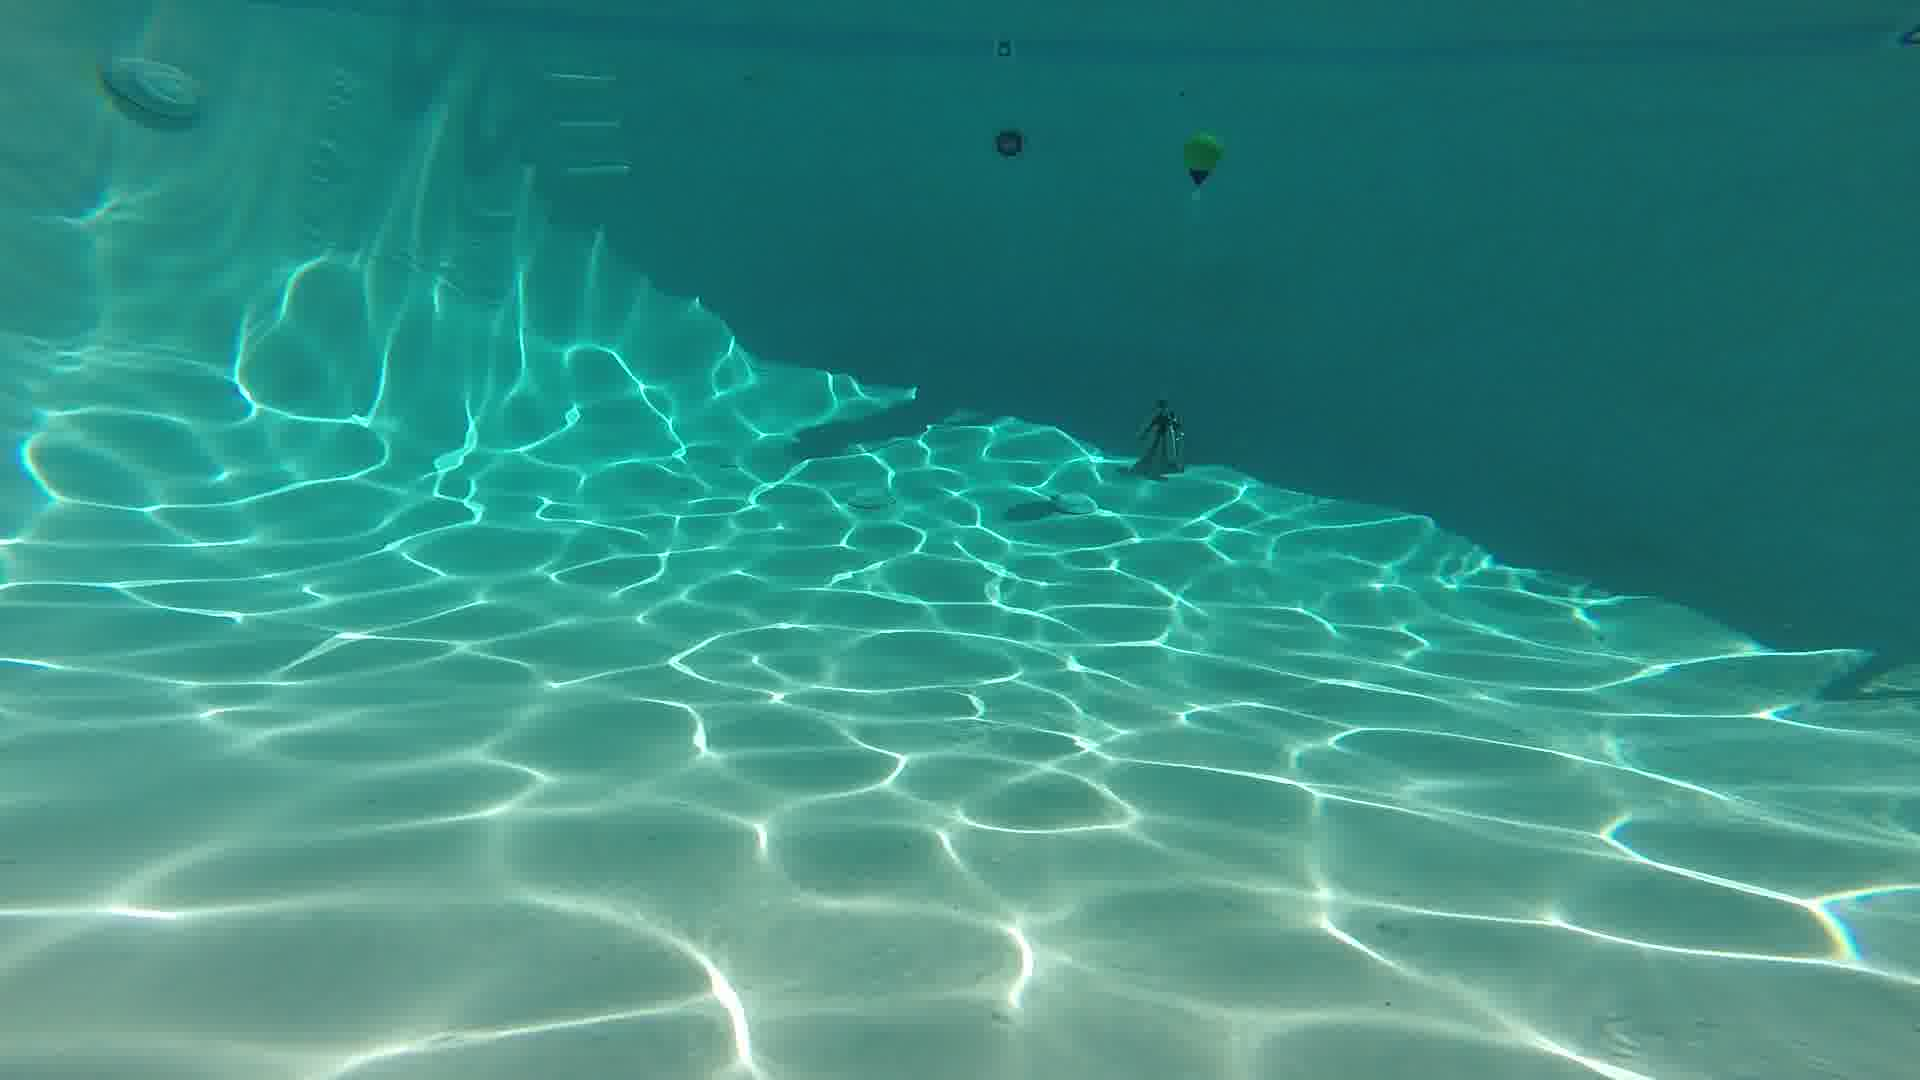yellow_buoy: (1183, 131, 1222, 187)
